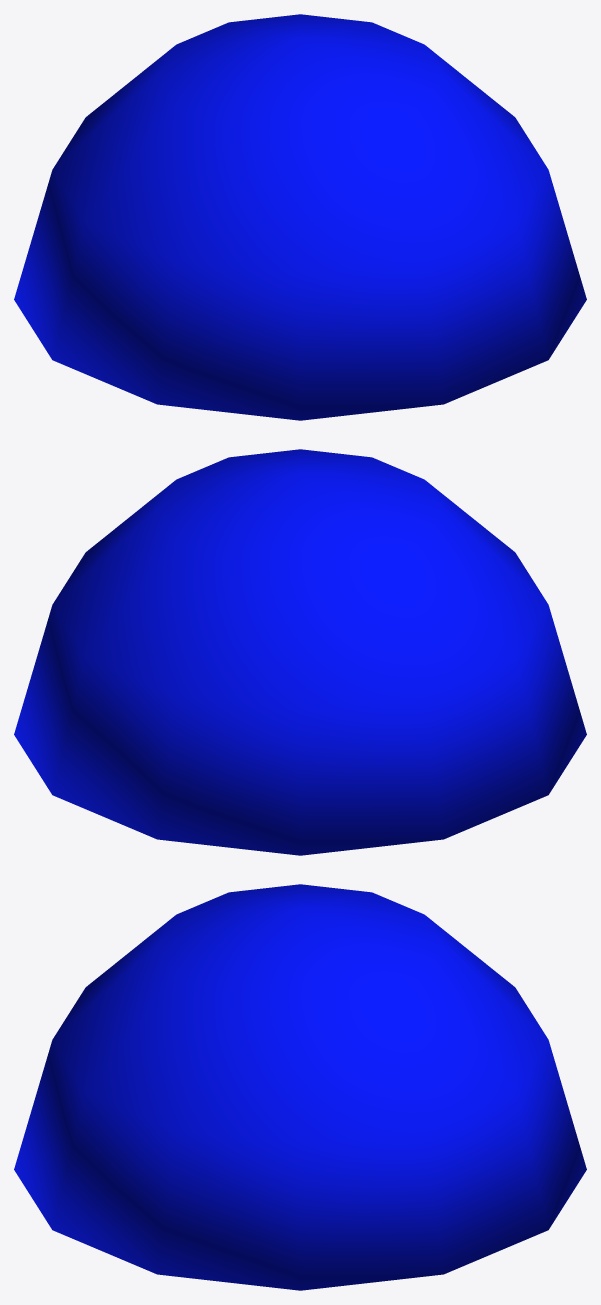
The model's file is Hat_Regular.FBX.
3 renders of one model, top to bottom at view 1: azimuth 30°, elevation 25°; view 2: azimuth 150°, elevation 25°; view 3: azimuth 270°, elevation 25°, orthographic.
Visible parts, largest first — view 1: RegularTop_PH; view 2: RegularTop_PH; view 3: RegularTop_PH.
Part boxes in pixels (x1,y1,x2,y2): RegularTop_PH: [14, 14, 586, 420]; RegularTop_PH: [14, 449, 586, 855]; RegularTop_PH: [14, 884, 586, 1290].
Bounding box in the file's own units: 1000 × 500 × 1000.
